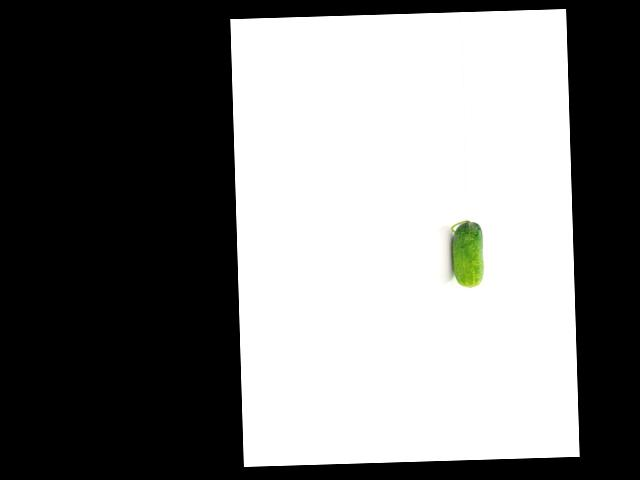cucumber: (450, 220, 484, 289)
